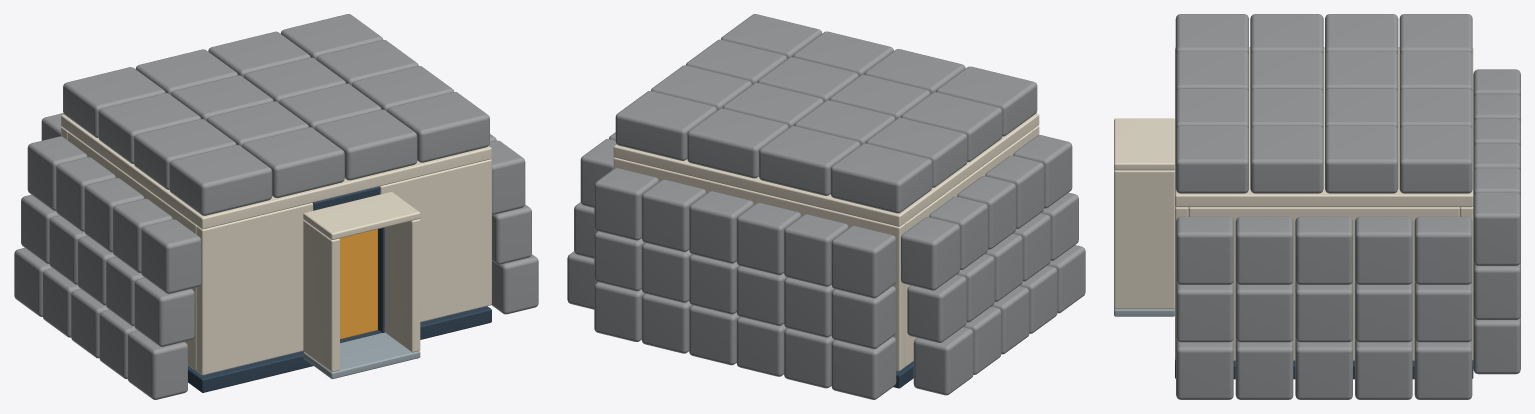
Rendered from shelter.glb.
The picture shows the model from 3 angles, left to right: view 1: azimuth 30°, elevation 25°; view 2: azimuth 150°, elevation 25°; view 3: azimuth 270°, elevation 25°; orthographic projection. The views are drawn at different scales.
Parts seen in each view (by area): view 1: Body, Cover, Door_0; view 2: Body, Cover; view 3: Body, Cover.
Part boxes in pixels (x1,y1,x2,y2): Body: [14, 14, 538, 399]; Cover: [61, 114, 491, 239]; Door_0: [339, 229, 377, 339]; Body: [567, 14, 1085, 399]; Cover: [613, 113, 1039, 226]; Body: [1114, 14, 1520, 399]; Cover: [1114, 47, 1473, 207].
Bounding box in the file's own units: 6.93 × 3.56 × 6.
